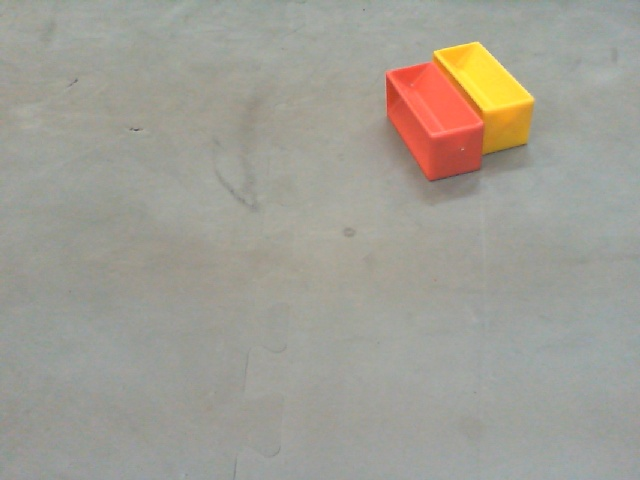RedSample: (382, 57, 484, 183)
YellowSample: (434, 40, 534, 153)
